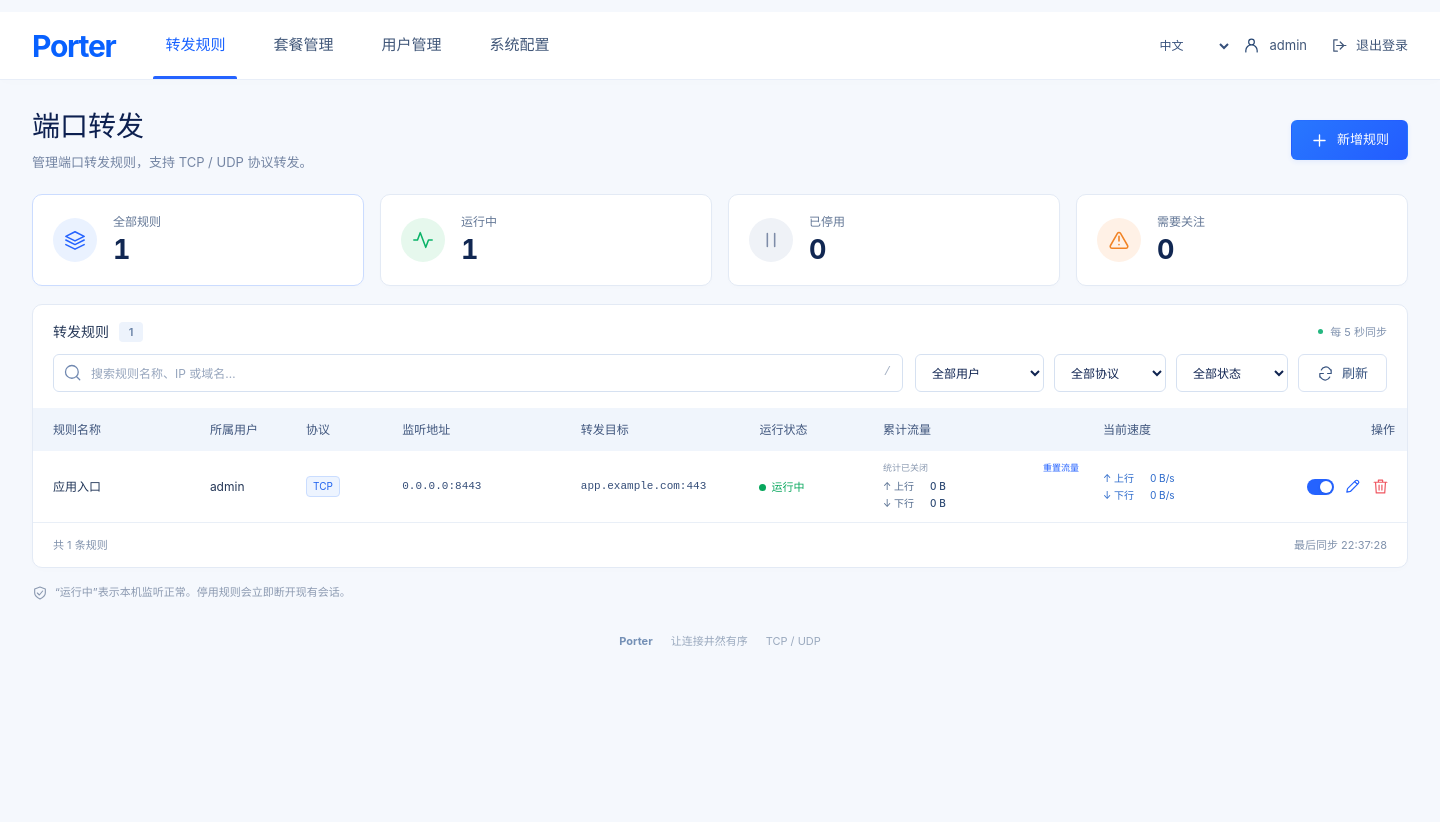
Test: 中英文界面 › 网络失败与已有列表在切换时保留
Click the button with aria-label "刷新规则".
click(1342, 373)  # box [1298,354,1387,392]
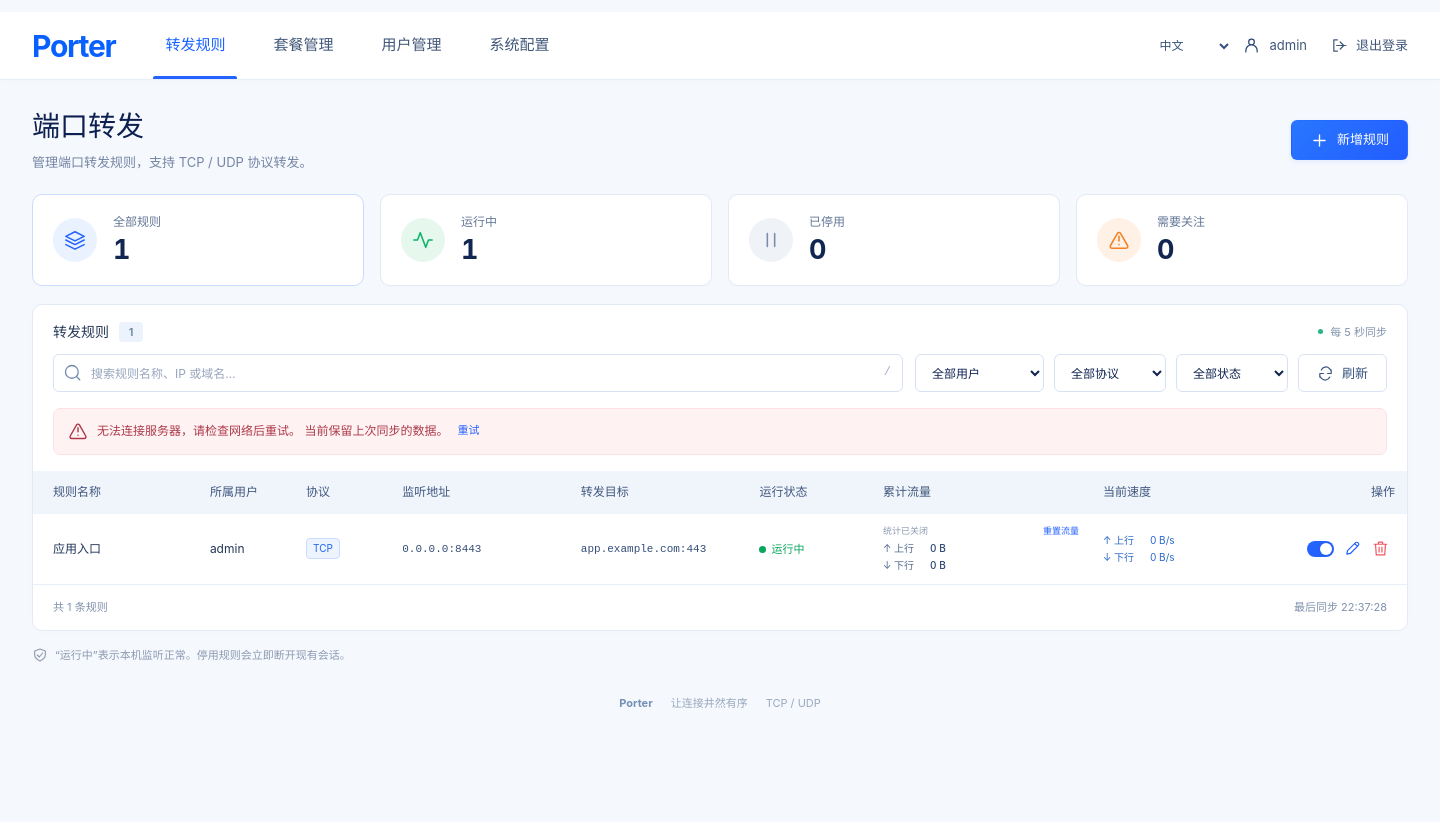
Select "English" in the dropdown named "语言" at x=1188, y=46, box [1144,28,1232,62]
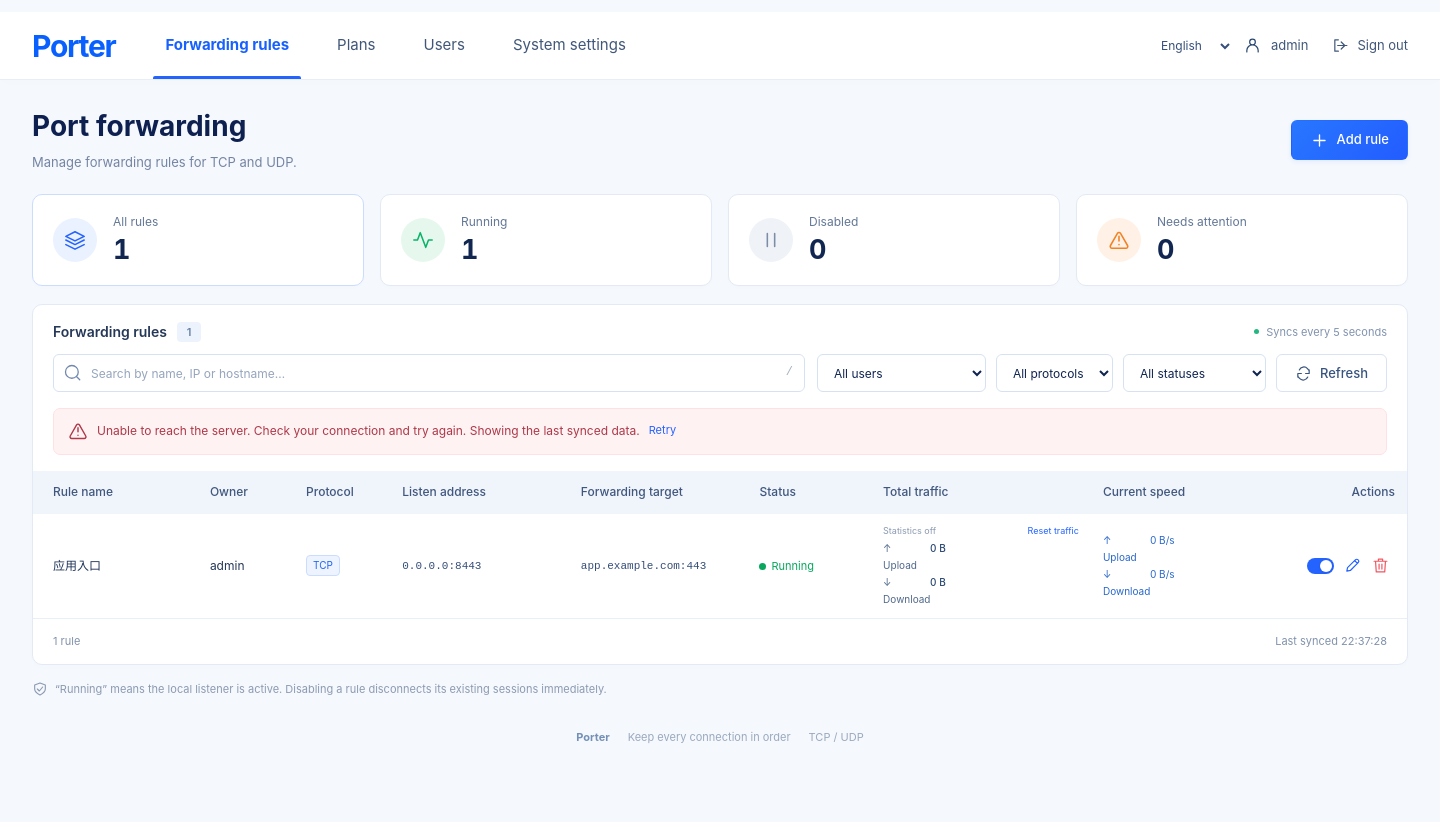
Expected: the element with class "desktop-table" shows "应用入口", [53,558,101,573]
Result: the message shows "Unable to reach the server" at [97,423,640,438]
Result: the message shows "Showing the last synced data." at [97,423,640,438]
